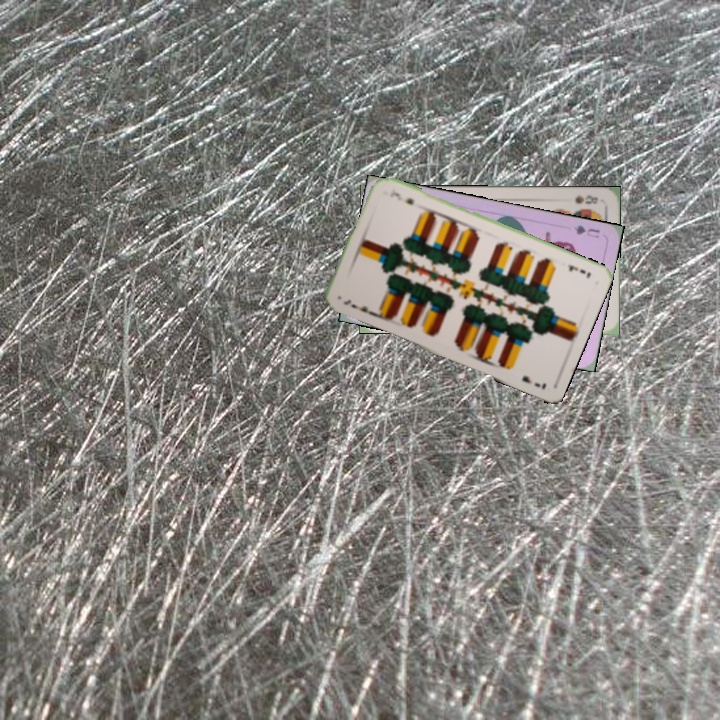E7: (340, 296, 376, 318), (564, 260, 594, 281)
GU: (570, 221, 602, 240)
S8: (571, 191, 600, 207)
